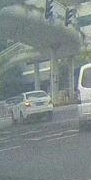L_light: (25, 101, 31, 107)
R_light: (47, 100, 52, 106)
T_light: (33, 93, 37, 94)
day-left: (24, 90, 54, 125)
